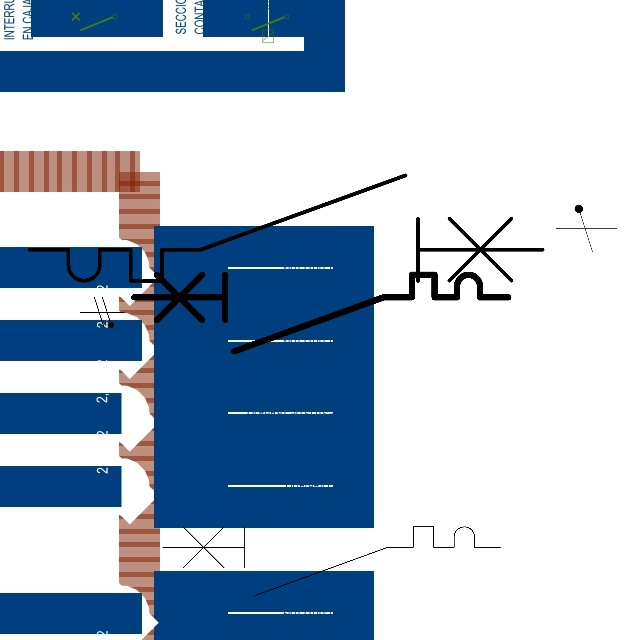interruptor_termomagnetico: (16, 162, 556, 294), (124, 265, 517, 361), (154, 518, 509, 605)
